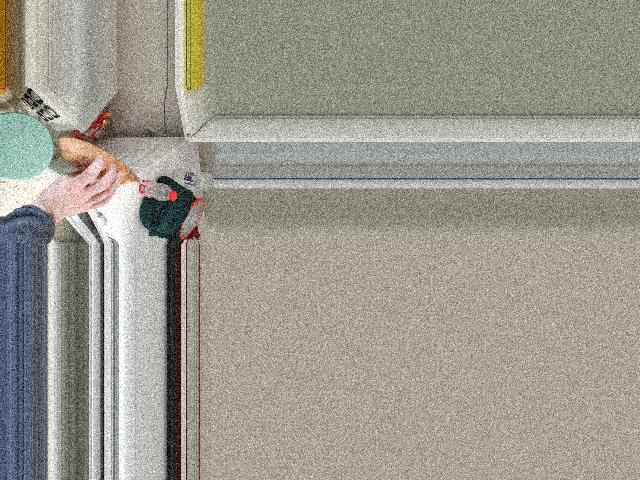sweet_potato: (71, 139, 133, 197)
